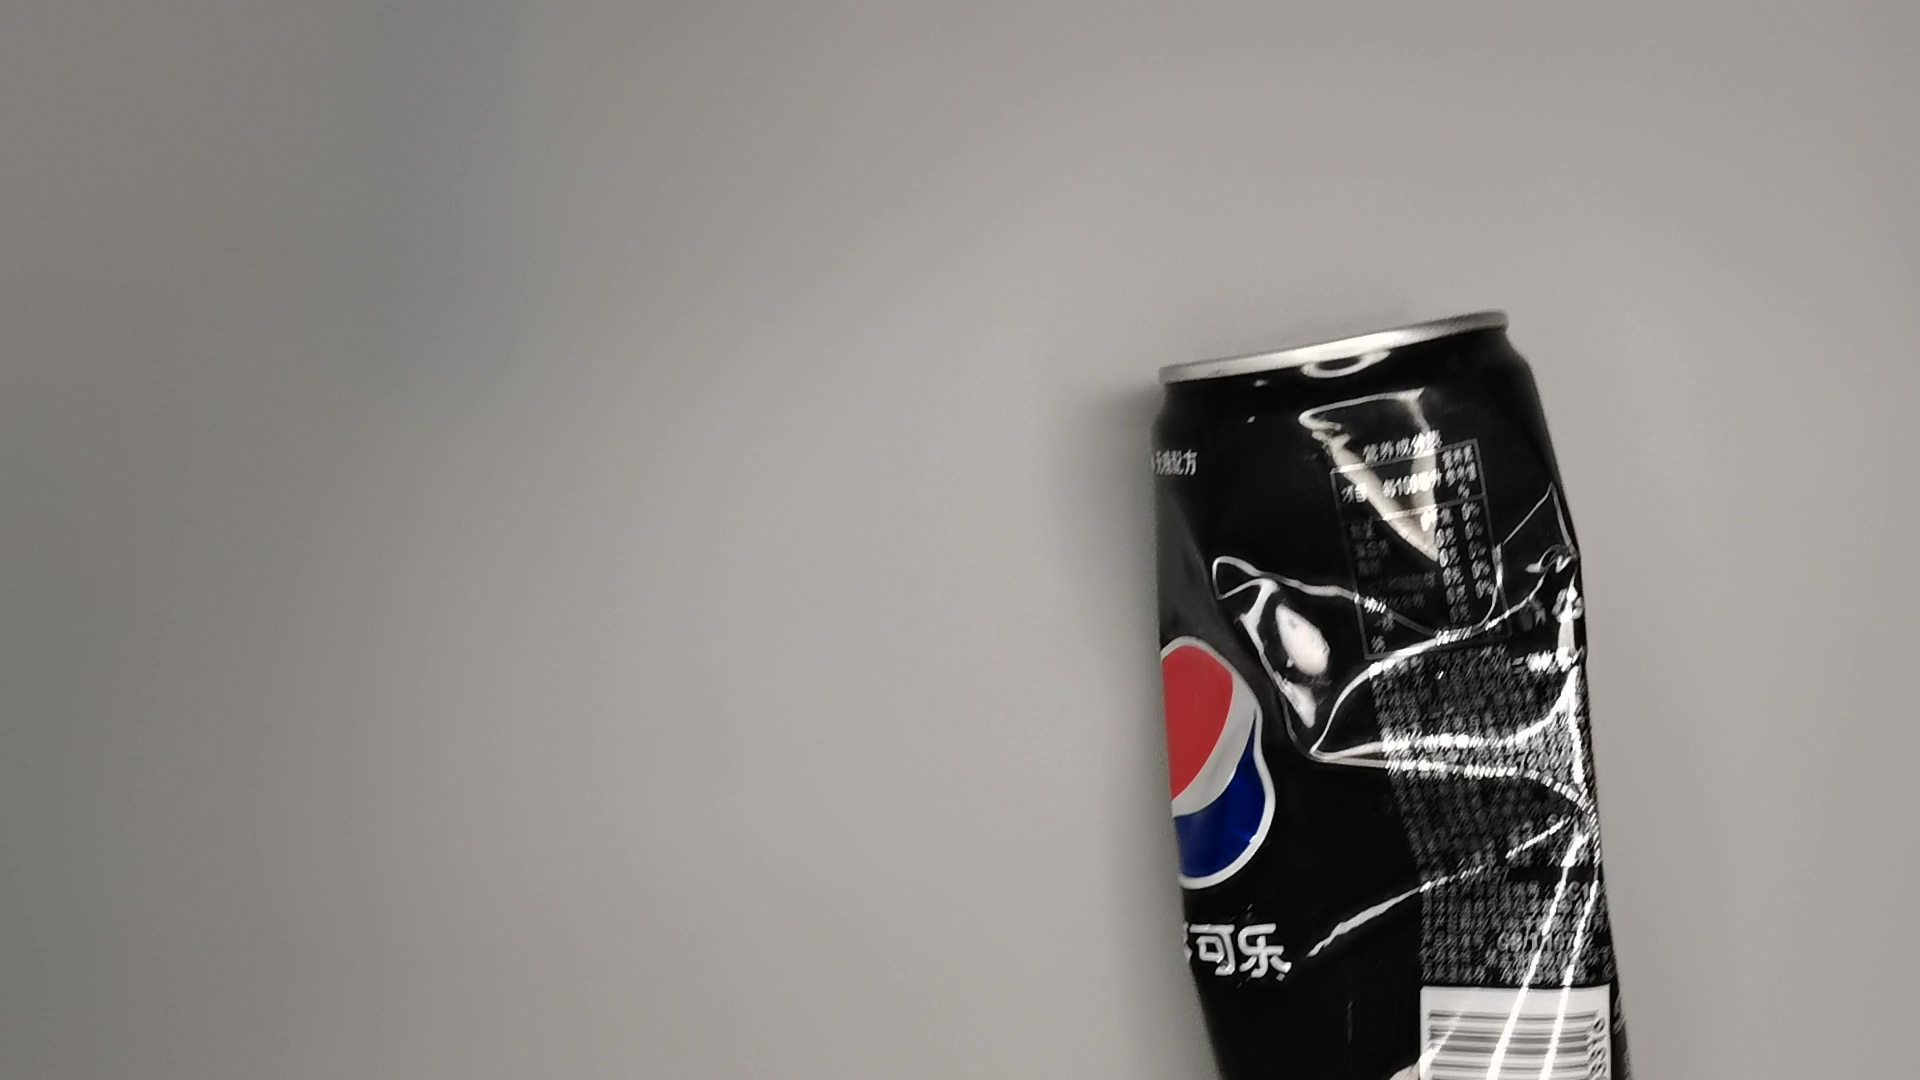can: (1130, 305, 1665, 1080)
